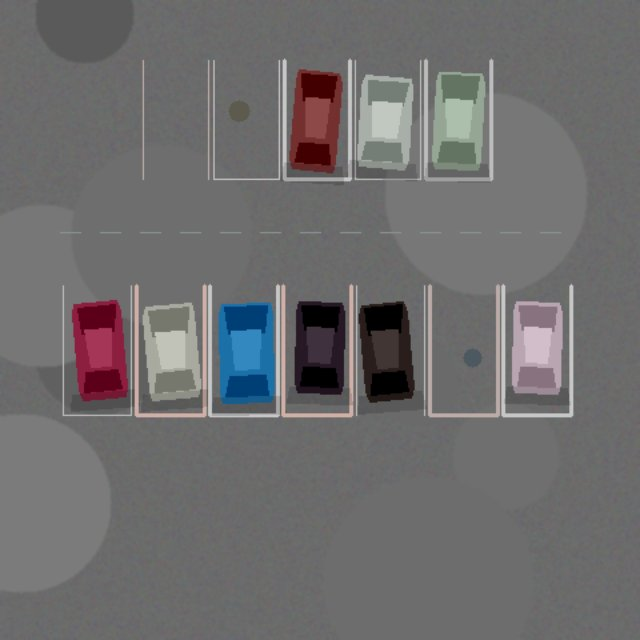space-empty: (429, 285, 497, 415), (213, 60, 279, 179), (143, 60, 208, 179)
space-occupied: (63, 285, 131, 415), (136, 285, 204, 415), (209, 285, 277, 415), (283, 285, 351, 415), (356, 285, 424, 415), (503, 285, 571, 415), (425, 60, 491, 179), (284, 60, 349, 179), (355, 60, 420, 179)
